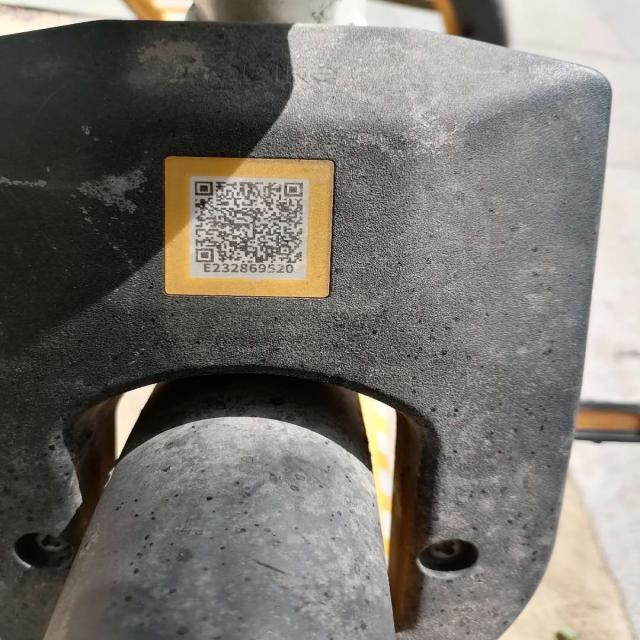qr_code: (194, 181, 303, 264)
